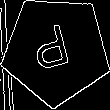P_S: (32, 21, 79, 80)
